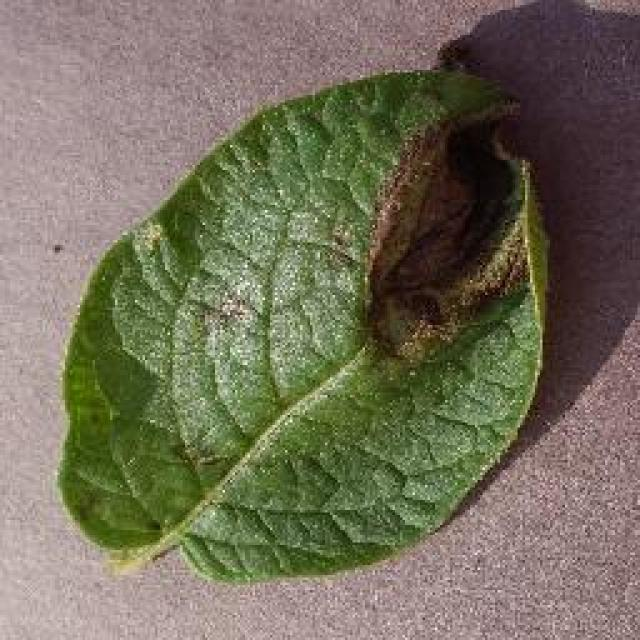late_blight: (52, 62, 552, 588)
